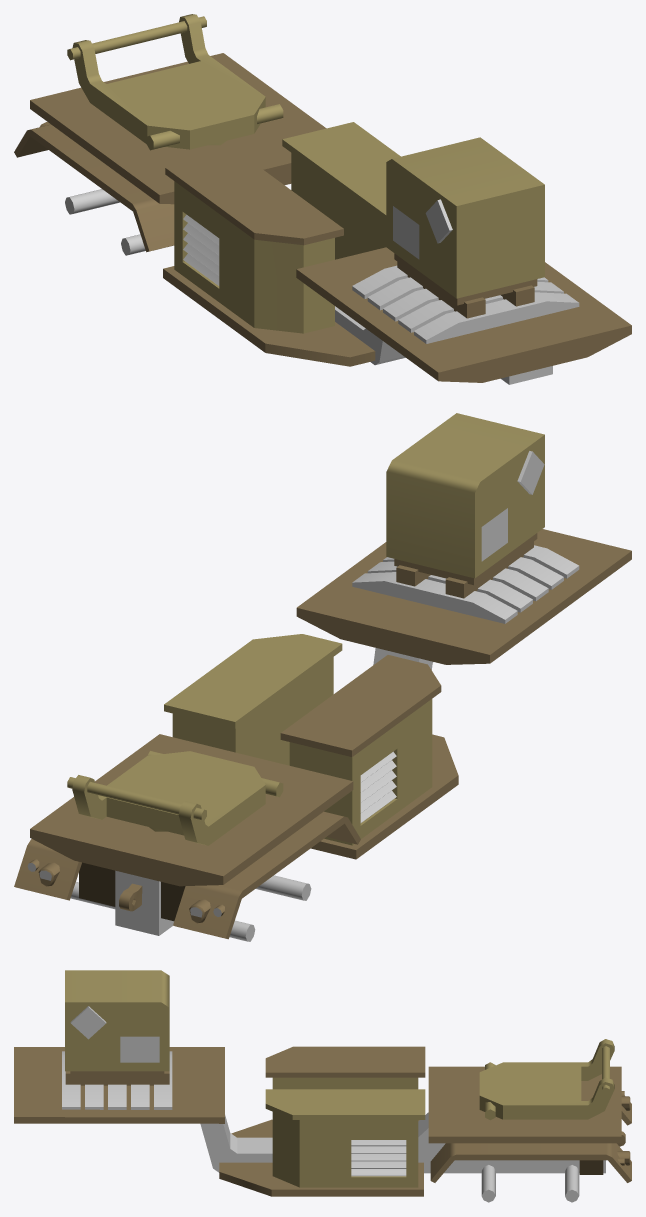
The model's file is air_defense_platform_002.fbx.
3 renders of one model, top to bottom at view 1: azimuth 30°, elevation 25°; view 2: azimuth 150°, elevation 25°; view 3: azimuth 270°, elevation 25°, orthographic. The views are drawn at different scales.
Parts seen in each view (by area): view 1: air_defense_platform_002; view 2: air_defense_platform_002; view 3: air_defense_platform_002.
Part boxes in pixels (bbox=[...]): air_defense_platform_002: bbox=[14, 14, 631, 384]; air_defense_platform_002: bbox=[14, 413, 631, 941]; air_defense_platform_002: bbox=[14, 970, 631, 1202].
Size of the model in its own units: 354 by 1205 by 395.
